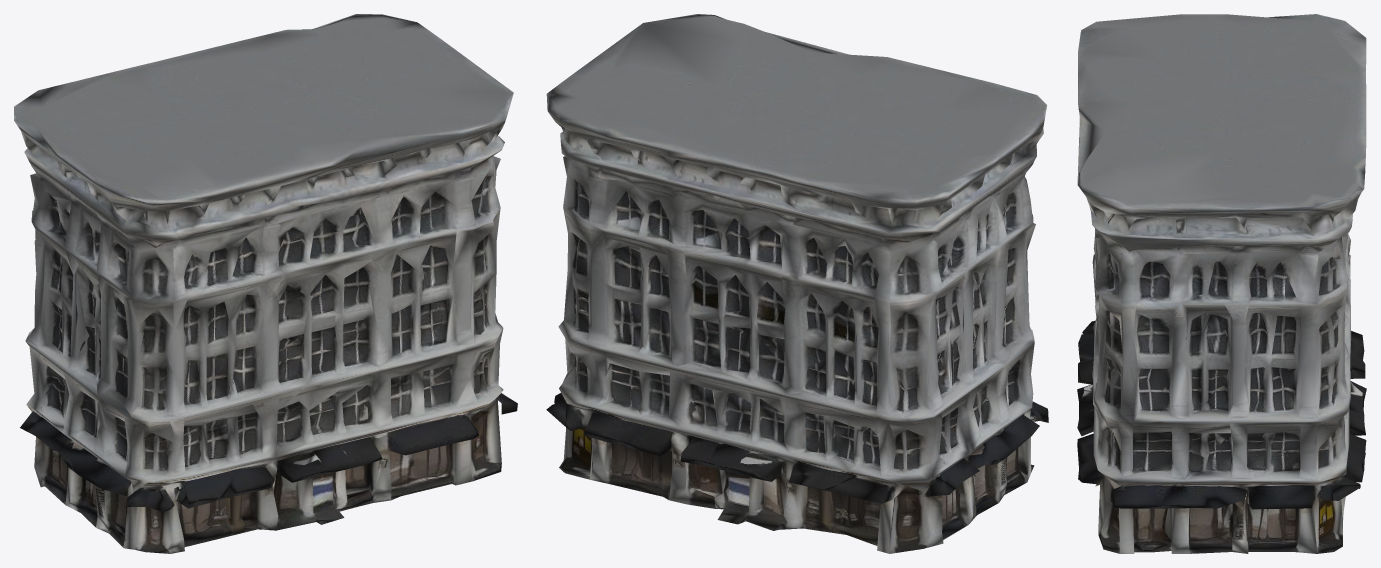
File: bld4_lo.glb
3 views of the same model, side by side, from view 1: azimuth 30°, elevation 25°; view 2: azimuth 150°, elevation 25°; view 3: azimuth 270°, elevation 25° (orthographic). The views are drawn at different scales.
Visible parts, largest first — view 1: tripo_node_0c721832-740a-4888-9d9b-e6df3341be9a; view 2: tripo_node_0c721832-740a-4888-9d9b-e6df3341be9a; view 3: tripo_node_0c721832-740a-4888-9d9b-e6df3341be9a.
Boxes of the visible parts, bbox=[...] form: tripo_node_0c721832-740a-4888-9d9b-e6df3341be9a: bbox=[14, 14, 517, 553]; tripo_node_0c721832-740a-4888-9d9b-e6df3341be9a: bbox=[546, 14, 1048, 553]; tripo_node_0c721832-740a-4888-9d9b-e6df3341be9a: bbox=[1077, 14, 1366, 553].
Size of the model in its own units: 0.9982 by 0.8583 by 0.6342.
1 material, 1 textured.
